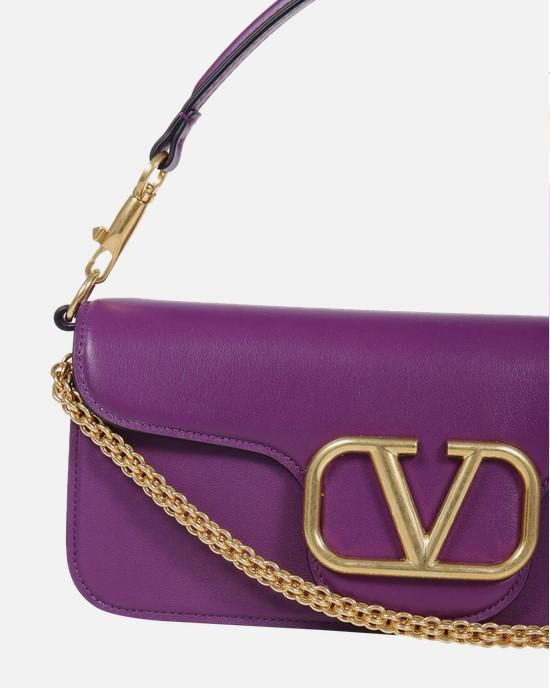VALENTINO: (304, 436, 540, 581)
